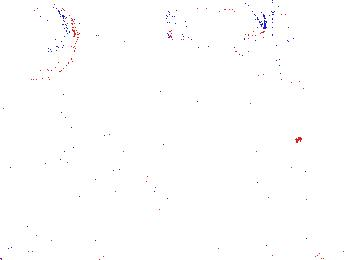moon jellyfish: (1, 1, 79, 81), (230, 72, 309, 141), (162, 1, 266, 41), (272, 8, 321, 85)
